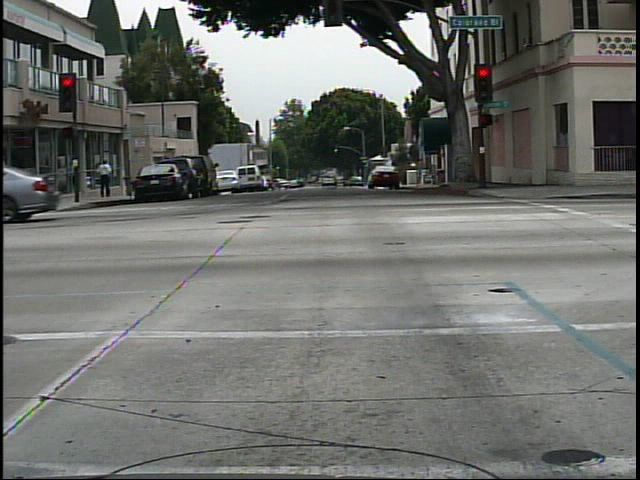person: (460, 138, 489, 196), (97, 153, 117, 201)
